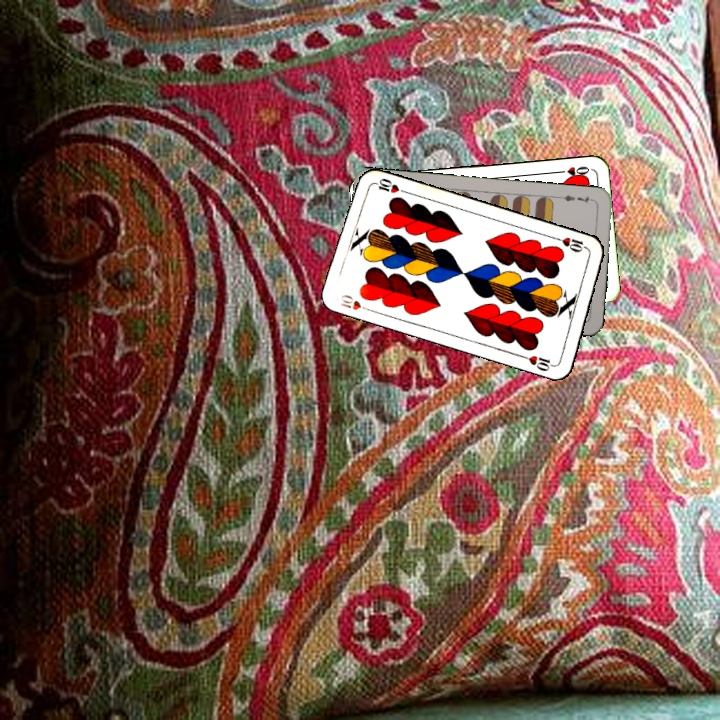E7: (556, 191, 597, 206)
H10: (337, 291, 375, 314), (552, 233, 591, 255)
HO: (552, 162, 592, 179)
